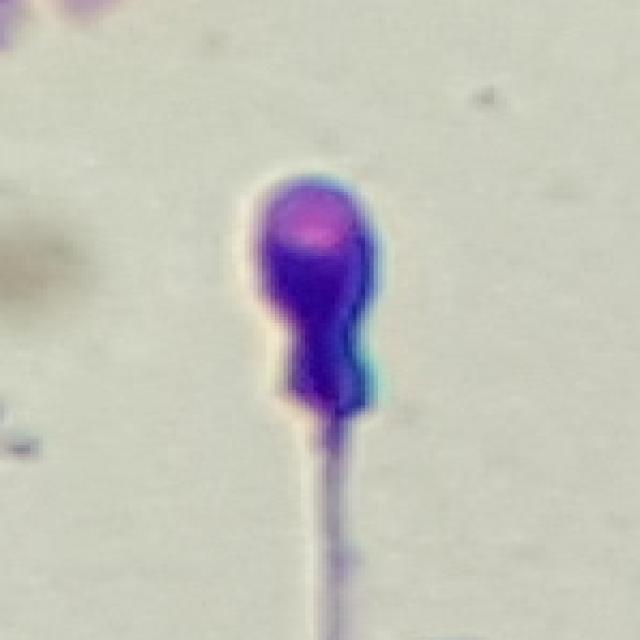abnormal sperm: (243, 170, 388, 588)
